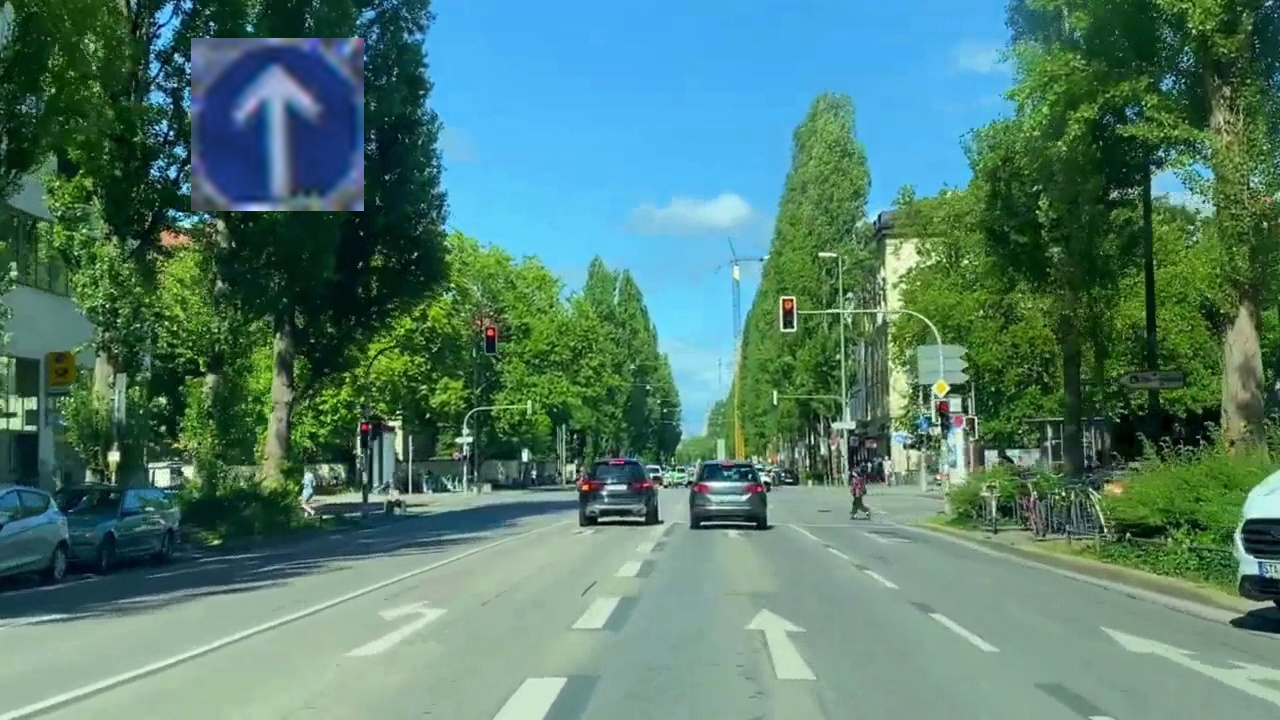Ahead only: (191, 38, 364, 211)
